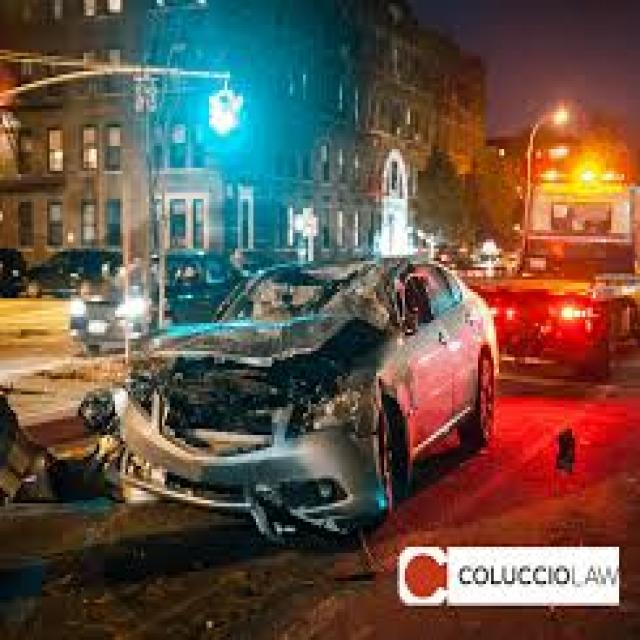accident: (108, 243, 538, 560)
